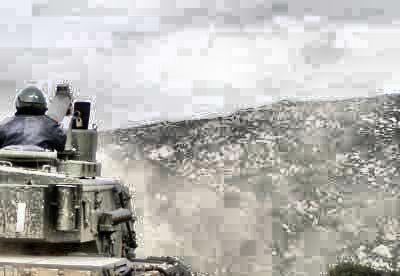tanks: (1, 106, 195, 276)
